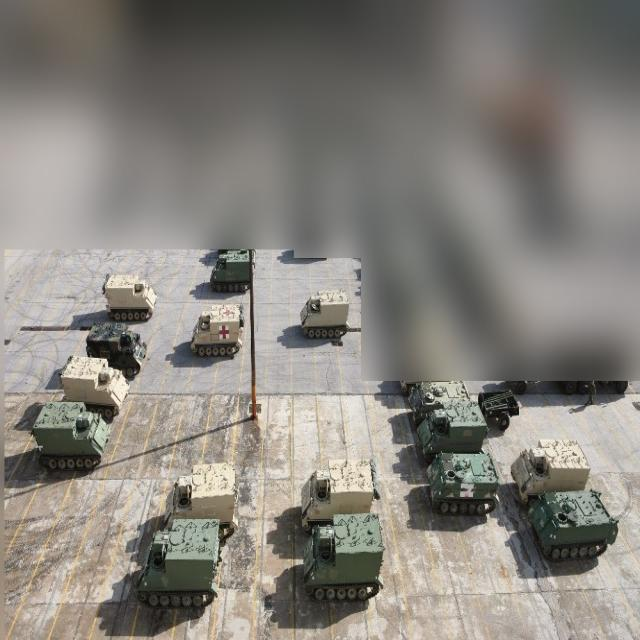tank: (51, 325, 148, 427), (135, 518, 222, 608), (303, 513, 385, 600), (528, 490, 619, 560), (32, 398, 112, 471), (301, 458, 375, 528), (425, 451, 500, 514), (516, 438, 591, 499), (414, 404, 488, 461), (190, 302, 246, 357), (300, 287, 350, 340), (103, 274, 157, 322), (210, 250, 255, 294)
